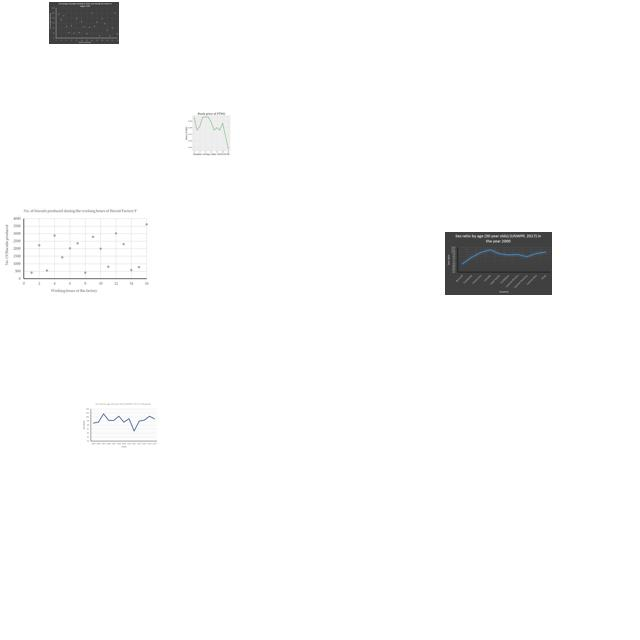Graph: (2, 206, 151, 296), (445, 232, 552, 295), (81, 402, 159, 449), (49, 2, 119, 44), (180, 110, 241, 156)
